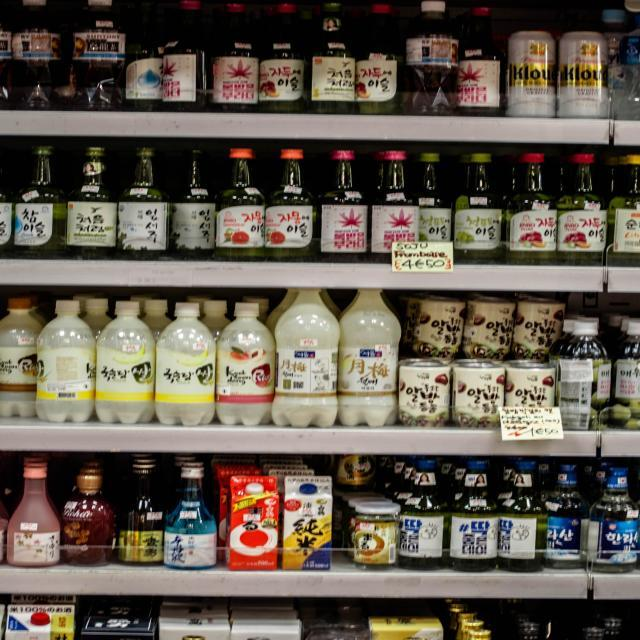Imprecise: (391, 294, 566, 428), (332, 451, 404, 569)
